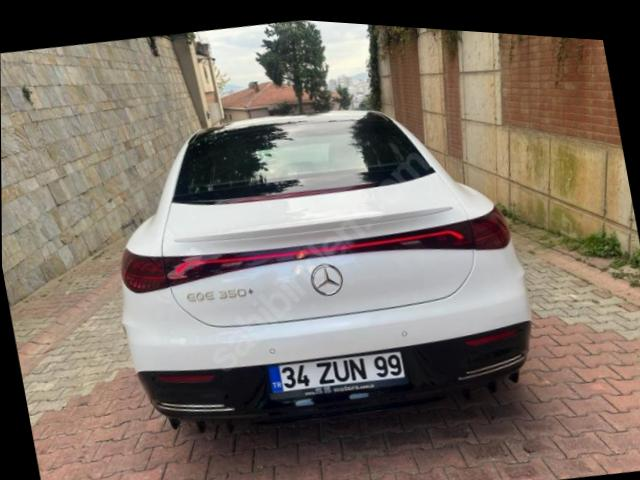plaka: (266, 350, 408, 400)
